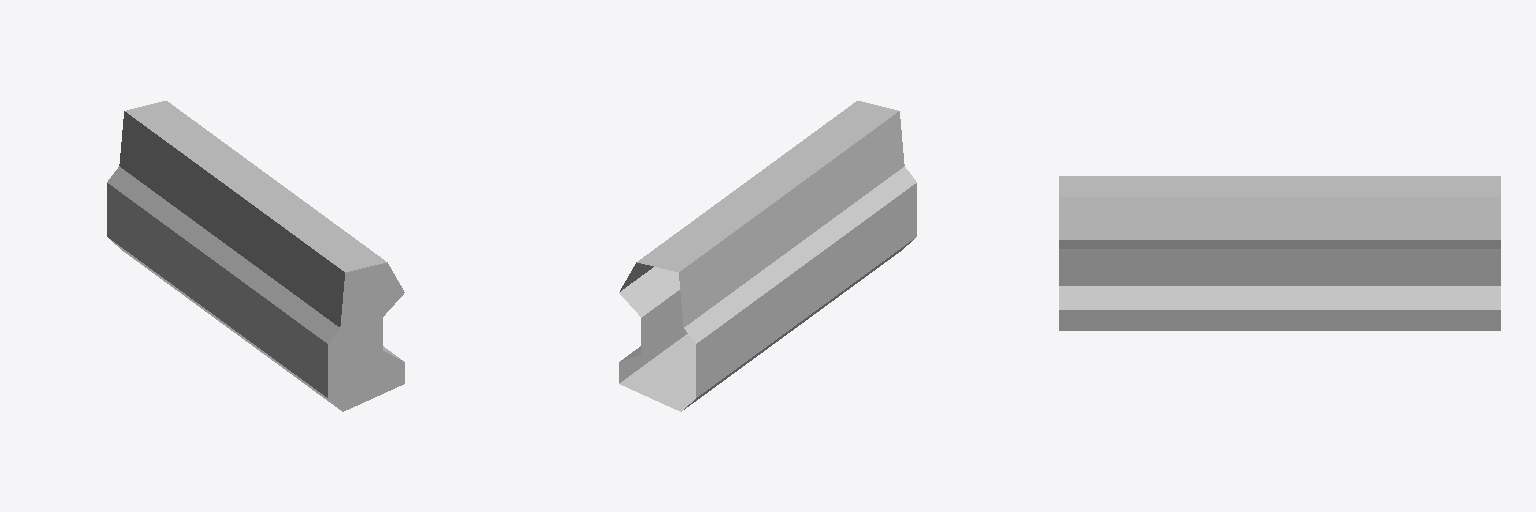
Rendered from building-77.obj.
3 renders of one model, left to right at view 1: azimuth 30°, elevation 25°; view 2: azimuth 150°, elevation 25°; view 3: azimuth 270°, elevation 25°, orthographic.
Bounding box in the file's own units: 9.31 × 16 × 46.14.